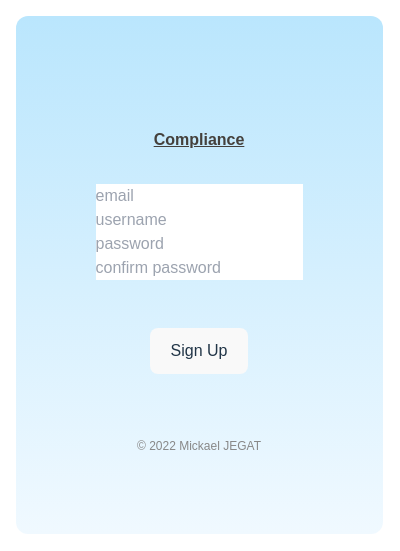
Test: When signup with two different password › should show 'wrong password' prompt
Type "test@test.com" into the field with placeholder "email".
click(200, 196); type("test@test.com")  # box [96,184,303,208]
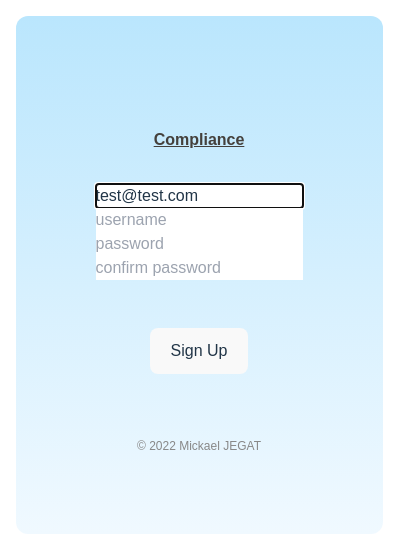
Type "batman" into the field with placeholder "username".
click(200, 220); type("batman")  # box [96,208,303,232]
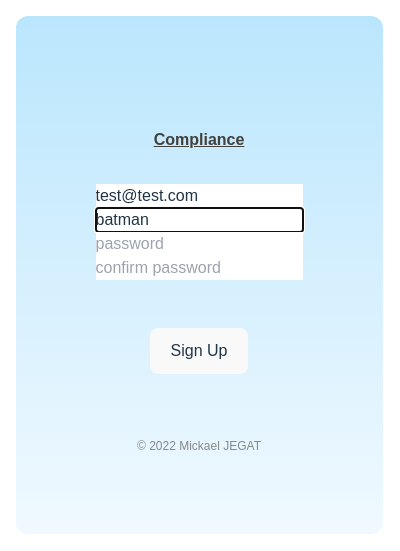
Type "test" into the password field with placeholder "password".
click(200, 244); type("test")  # box [96,232,303,256]
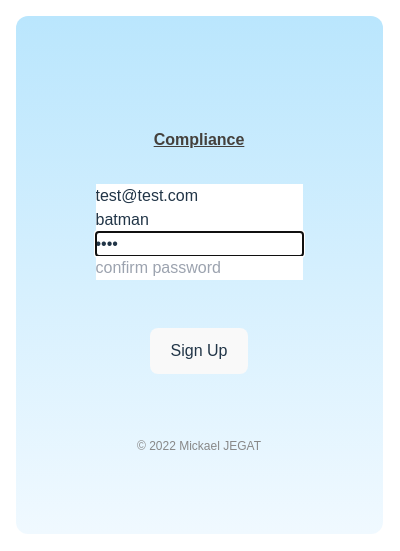
Type "tes" into the password field with placeholder "confirm password".
click(200, 268); type("tes")  # box [96,256,303,280]
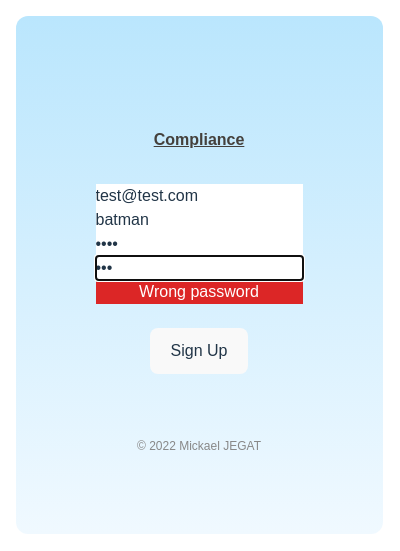
expect the text "Wrong password" is shown: met, box [96,280,302,304]
